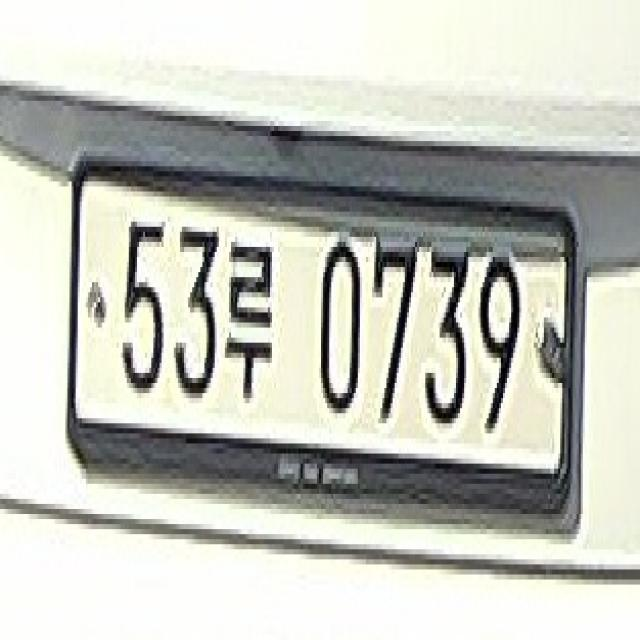0: (315, 202, 370, 434)
3: (419, 237, 470, 453), (174, 202, 221, 418)
5: (110, 176, 174, 418)
7: (366, 212, 417, 448)
9: (466, 237, 530, 458)
license_plate: (65, 141, 583, 559)
lu: (217, 222, 278, 408)
